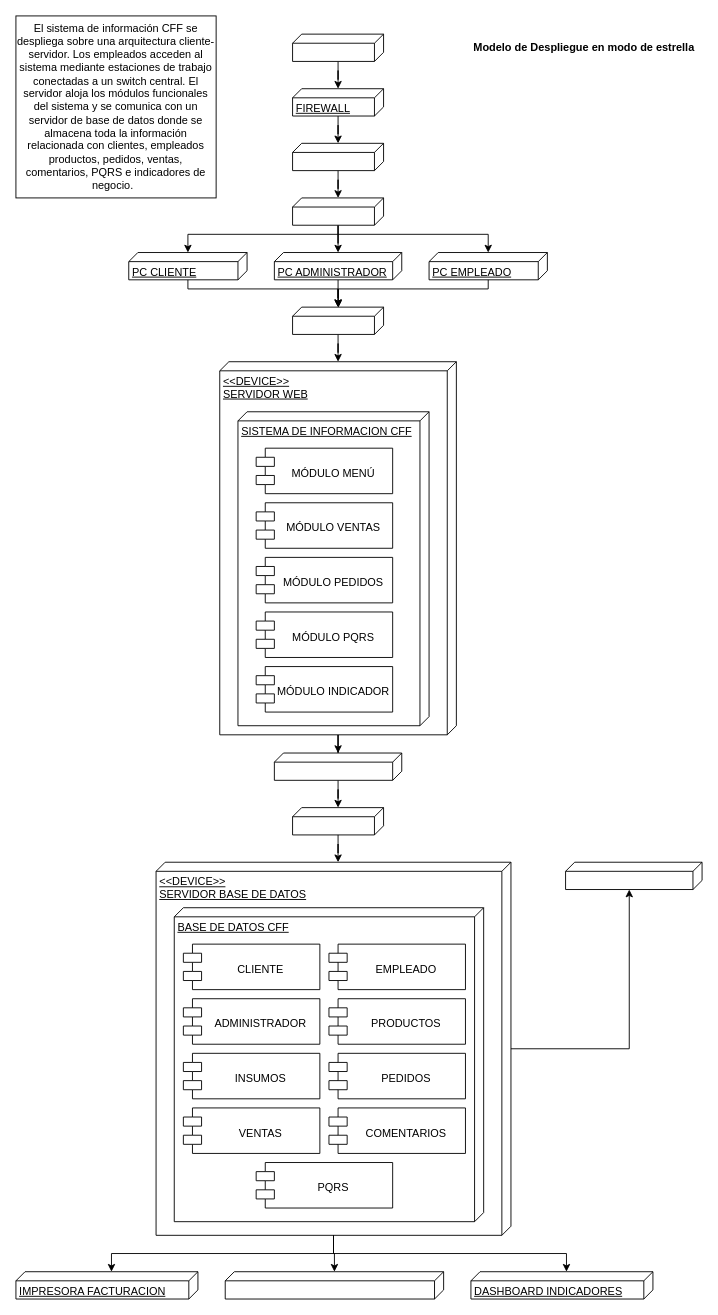
Some shapes in this 718 by 1315 pixel diagram are drawn without their labels. Here are the shapes that lost their labels. From the top down, the centre of each, then its label:
At pixel 338 47: "INTERNET".
At pixel 338 156: "ROUTER".
At pixel 338 211: "SWITCH".
At pixel 338 320: "HTTPS".
At pixel 337 766: "SERVICIO USUARIOS".
At pixel 338 821: "SQL".
At pixel 633 875: "SERVIDOR BACKUP".
At pixel 334 1285: "RESPALDO / COPIA DE SEGURIDAD".
